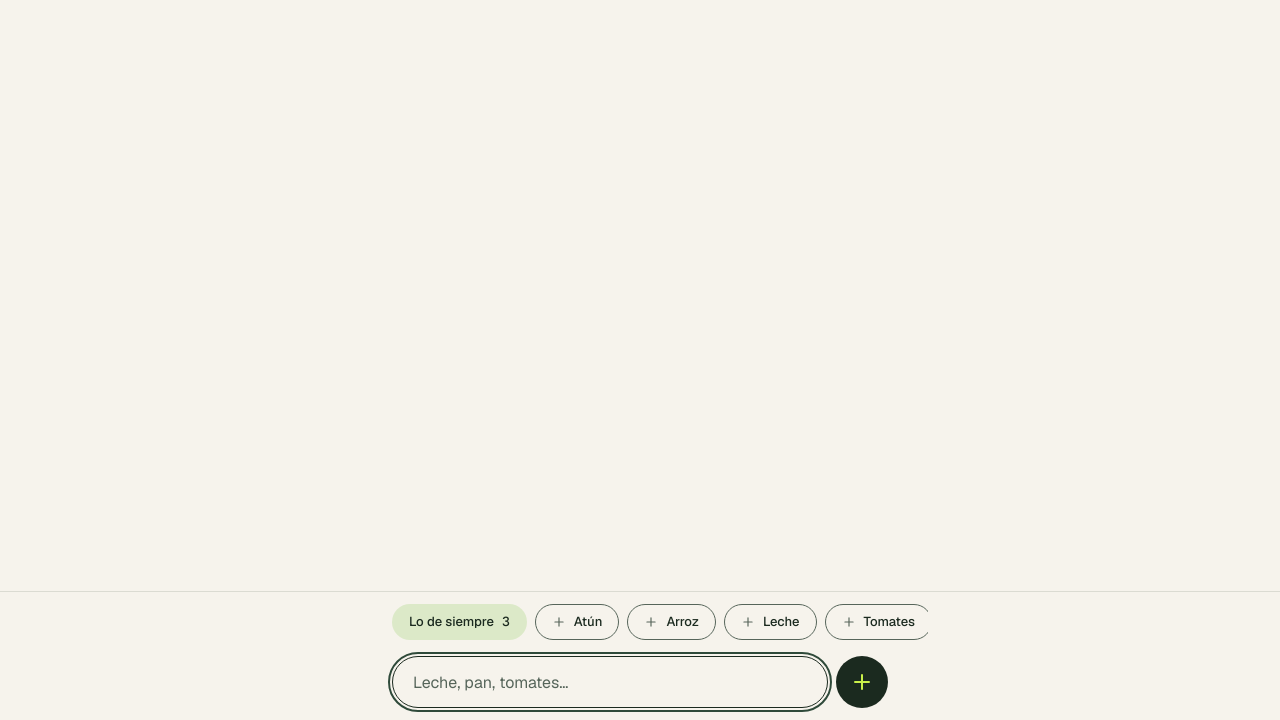
it: Lo de siempre › adds what stays ticked in one write, each with its quantity and price
Click the button "Lo de siempre 3" at point(459, 622), box [392,604,527,640]
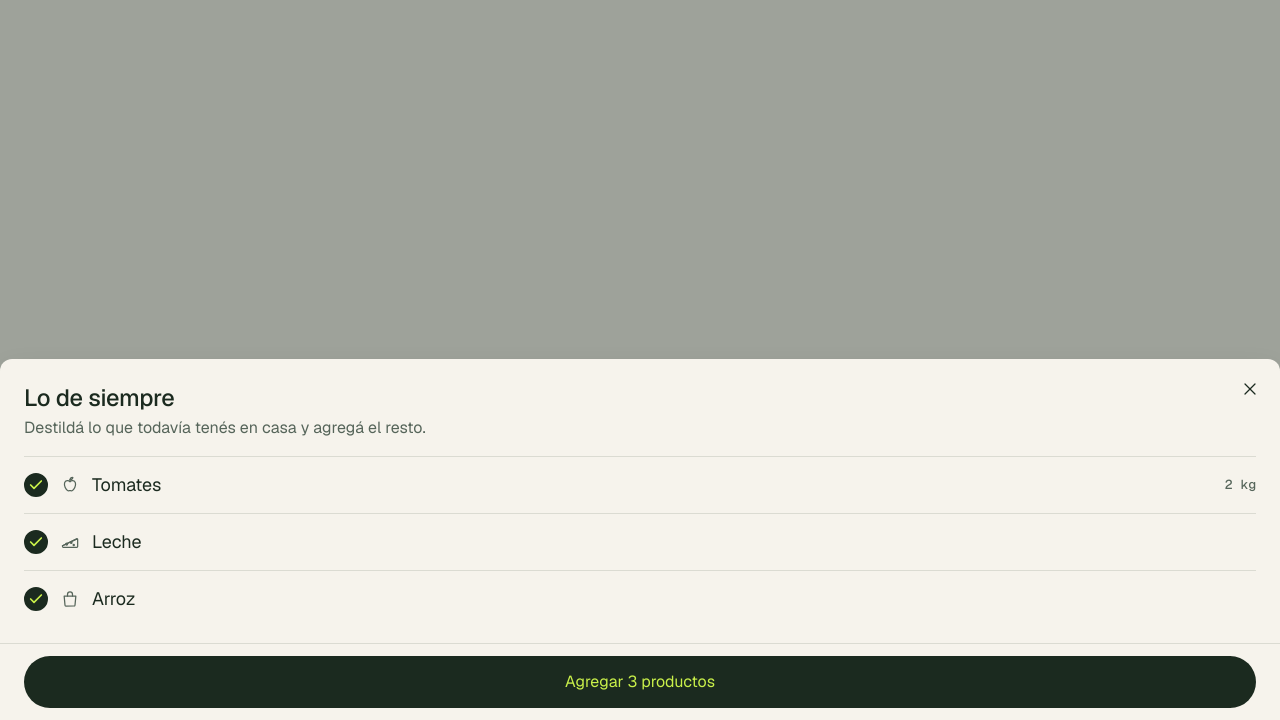
Click the button "Agregar 3 productos" at point(640, 682), box [24,656,1256,708]
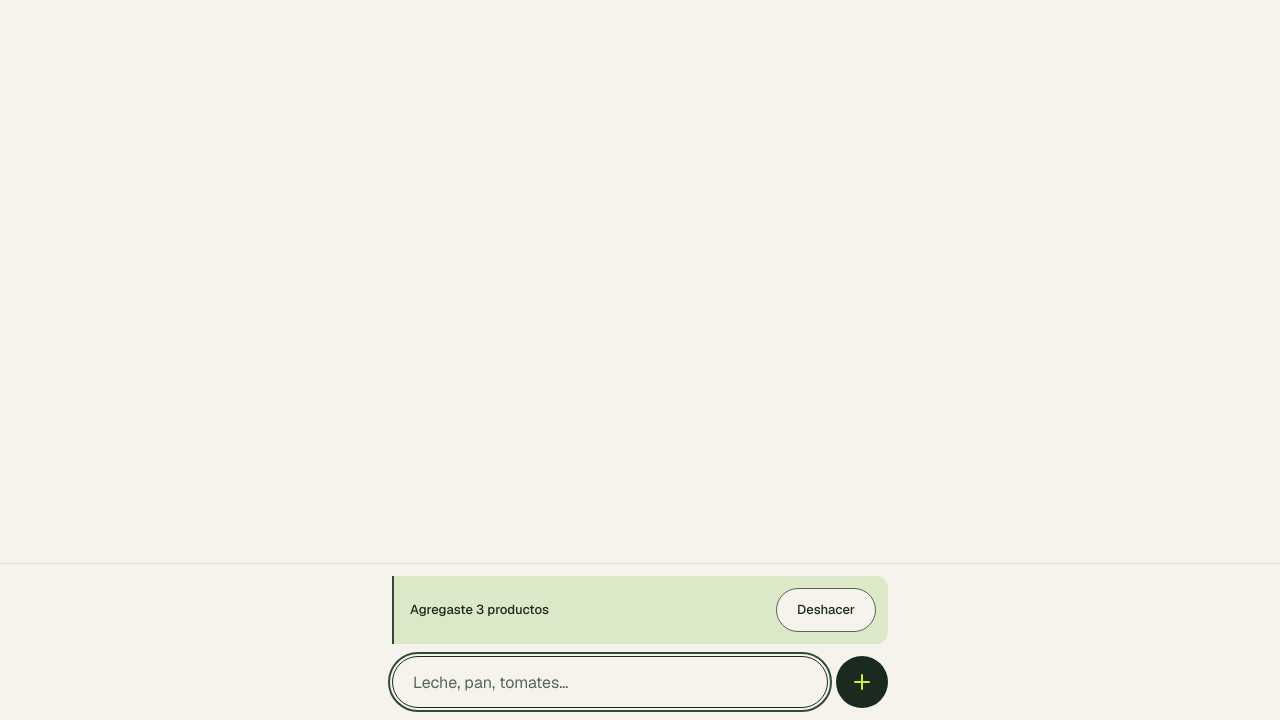
Check: the button "Lo de siempre" is gone
